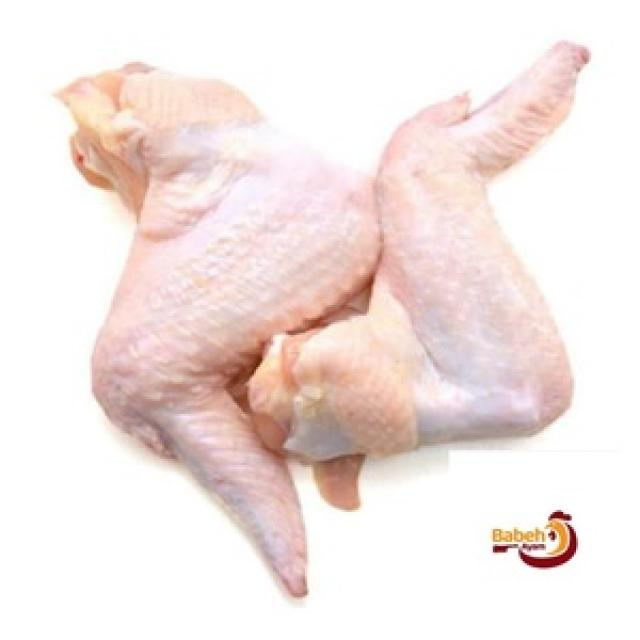Chicken: (60, 63, 374, 600), (250, 40, 587, 462)
